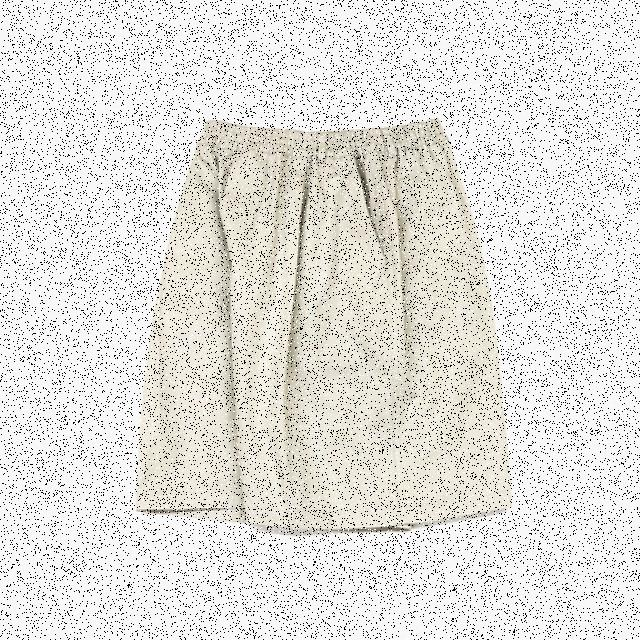Blouse_deep: (149, 107, 506, 532)
